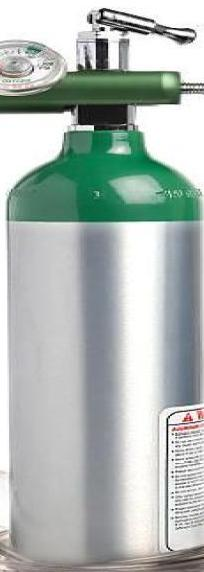cylinder: (1, 1, 204, 572)
